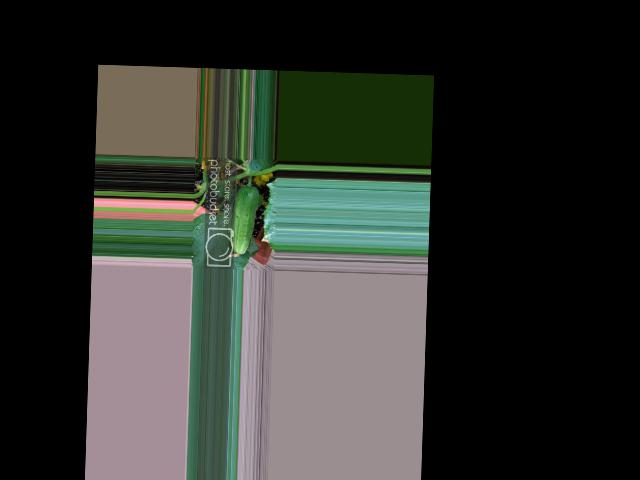cucumber: (229, 186, 259, 255)
